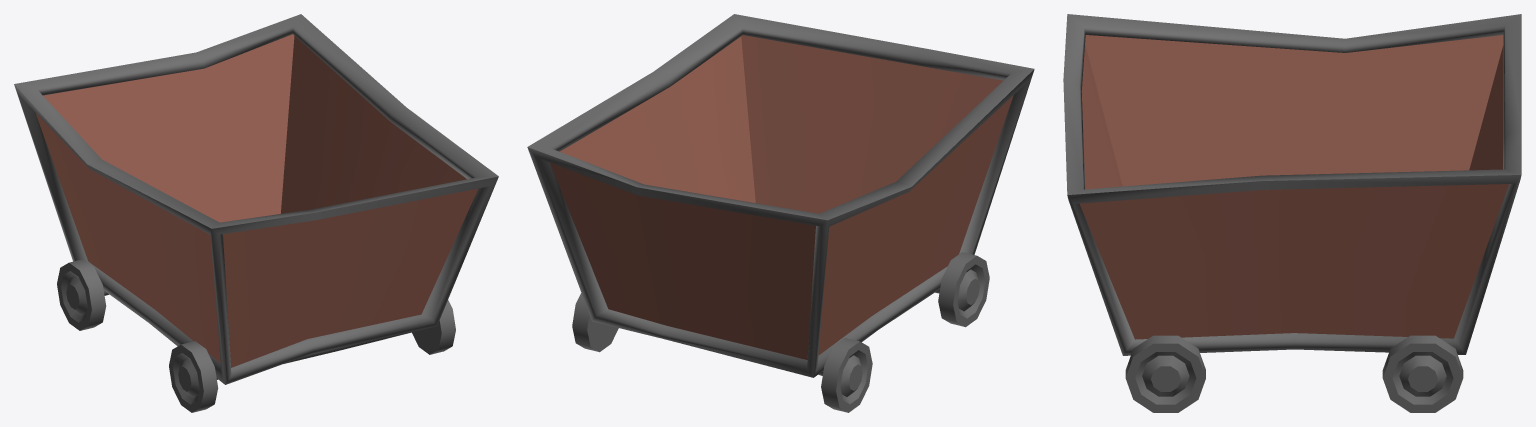
The model's file is CarrinhoMina.fbx.
3 renders of one model, left to right at view 1: azimuth 30°, elevation 25°; view 2: azimuth 150°, elevation 25°; view 3: azimuth 270°, elevation 25°, orthographic. The views are drawn at different scales.
Visible parts, largest first — view 1: CarrinhoMina.001; view 2: CarrinhoMina.001; view 3: CarrinhoMina.001.
Part boxes in pixels (bbox=[...]): CarrinhoMina.001: bbox=[14, 14, 498, 412]; CarrinhoMina.001: bbox=[527, 14, 1034, 412]; CarrinhoMina.001: bbox=[1063, 14, 1521, 412].
Bounding box in the file's own units: 2.47 × 2.08 × 1.47.
